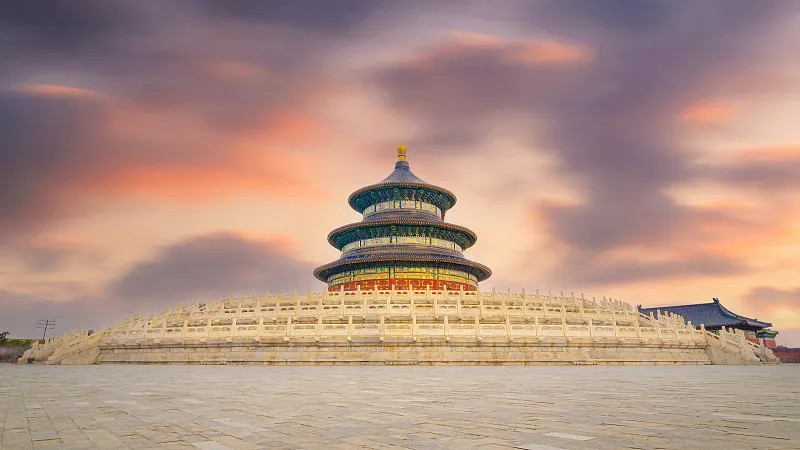Heaven: (313, 146, 492, 295)
